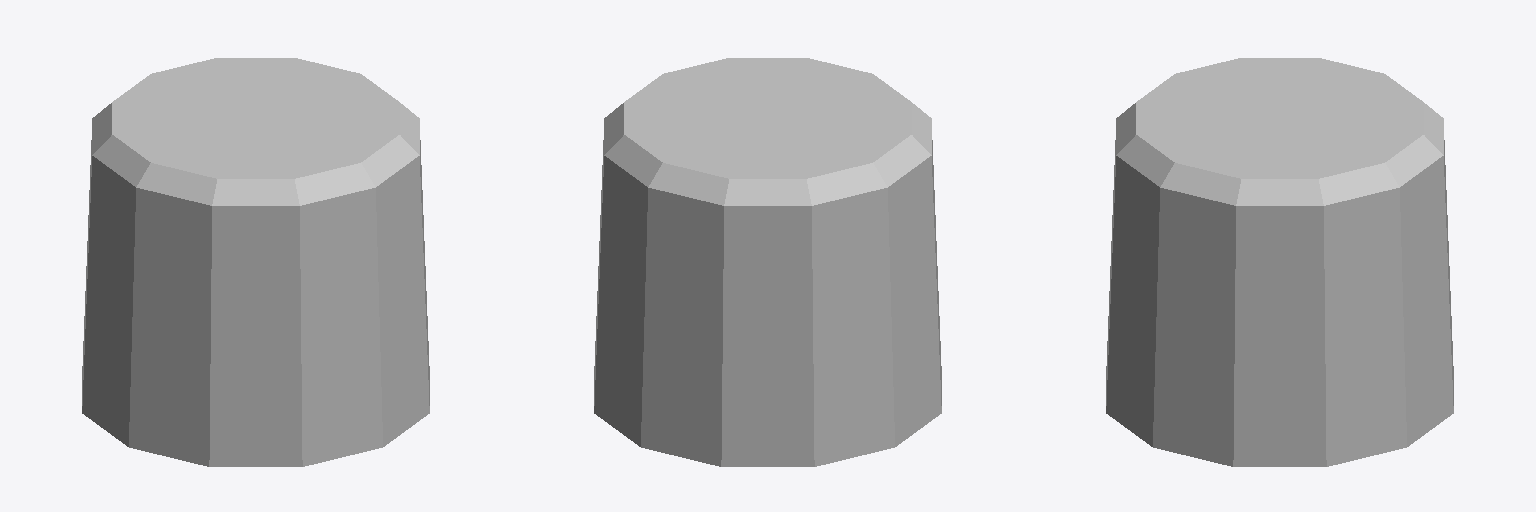
Rendered from MCD_Knob.obj.
3 views of the same model, side by side, from view 1: azimuth 30°, elevation 25°; view 2: azimuth 150°, elevation 25°; view 3: azimuth 270°, elevation 25° (orthographic).
Visible parts, largest first — view 1: Cylinder03; view 2: Cylinder03; view 3: Cylinder03.
Boxes of the visible parts, <box> form: Cylinder03: <box>82,58,429,466</box>; Cylinder03: <box>594,58,941,466</box>; Cylinder03: <box>1106,58,1453,466</box>.
Bounding box in the file's own units: 9.77 × 8.54 × 9.77.